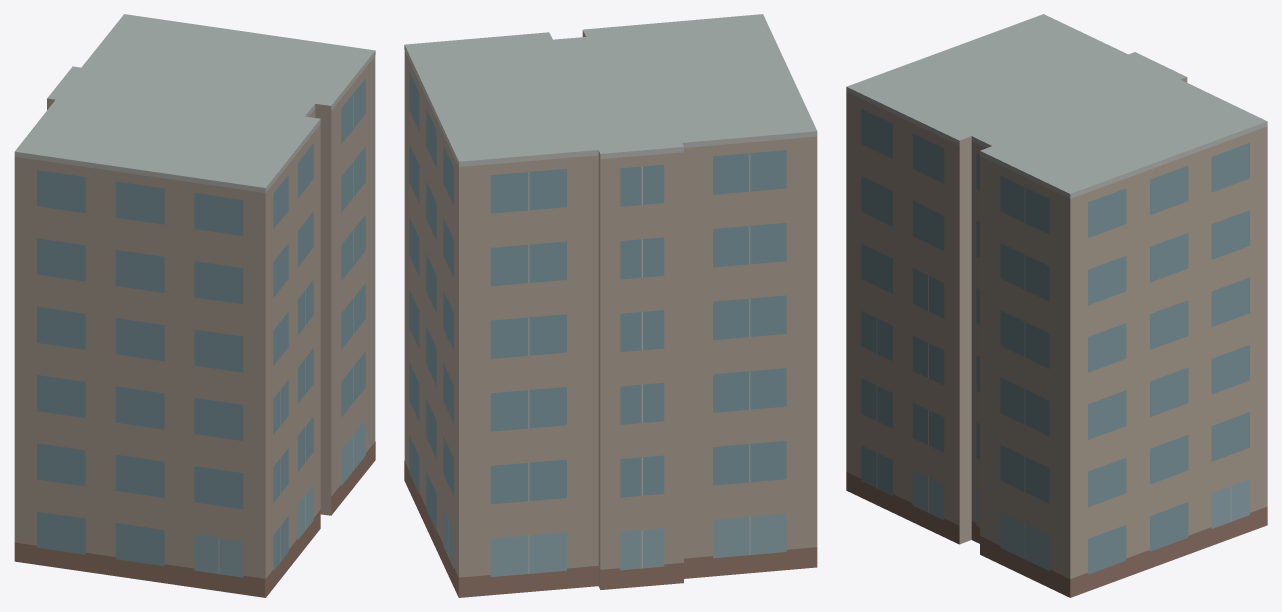
File: survey-upis-32740958.glb
The picture shows the model from 3 angles, left to right: view 1: azimuth 30°, elevation 25°; view 2: azimuth 150°, elevation 25°; view 3: azimuth 270°, elevation 25°; orthographic projection. The views are drawn at different scales.
Parts seen in each view (by area): view 1: survey-upis-32740958.tmp; view 2: survey-upis-32740958.tmp; view 3: survey-upis-32740958.tmp.
Boxes of the visible parts, x1,y1,x2,y2 form: survey-upis-32740958.tmp: [14, 14, 375, 597]; survey-upis-32740958.tmp: [404, 14, 817, 597]; survey-upis-32740958.tmp: [846, 14, 1267, 597].
Bounding box in the file's own units: 19.08 × 19.95 × 18.87.
